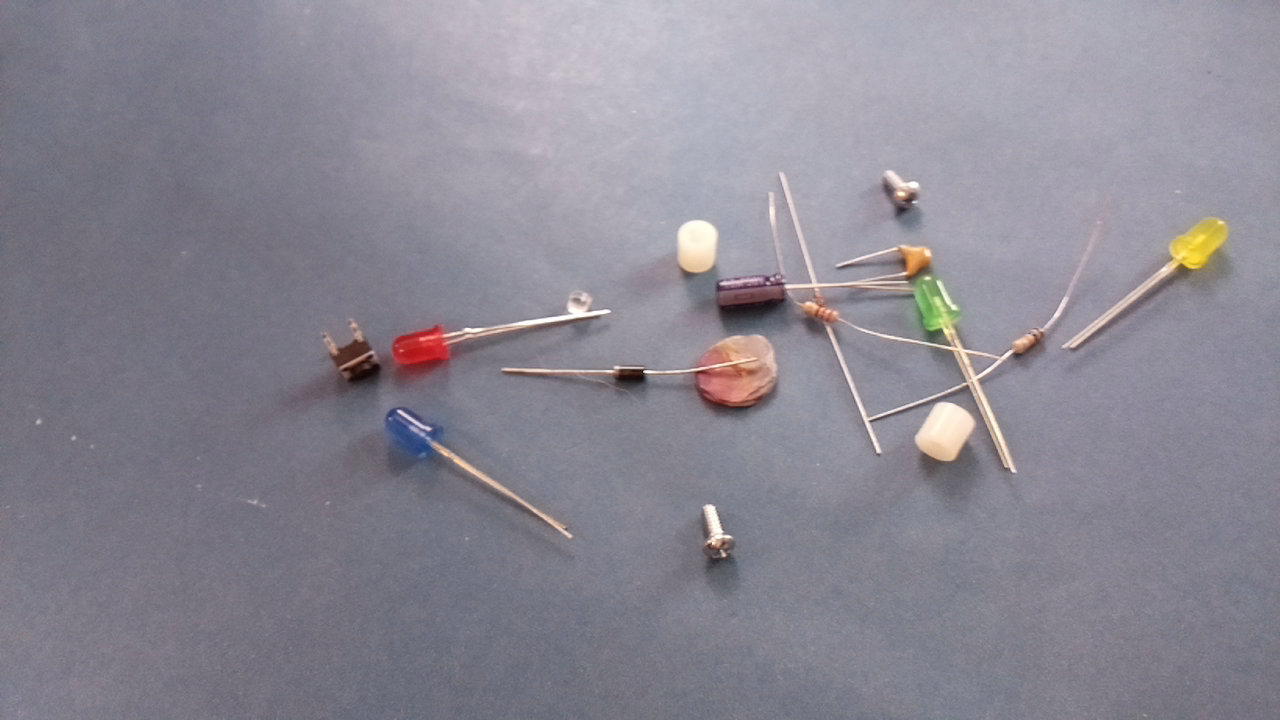button: (325, 335, 385, 385)
capacitor: (715, 272, 792, 308), (896, 242, 937, 281)
diode: (609, 362, 648, 382), (810, 287, 827, 307)
led: (380, 403, 447, 461), (1171, 214, 1232, 277), (907, 274, 964, 335), (388, 323, 451, 367)
resistor: (1009, 327, 1045, 357), (799, 301, 840, 326)
